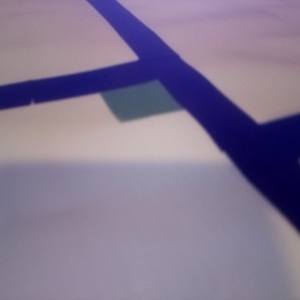bottom_left: (1, 211, 162, 299)
